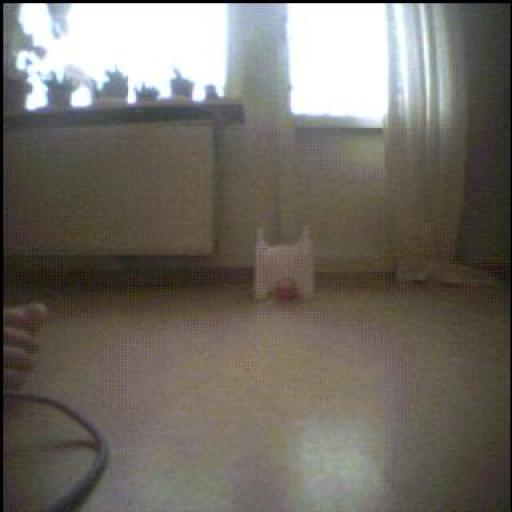Basket: (272, 276, 301, 304)
